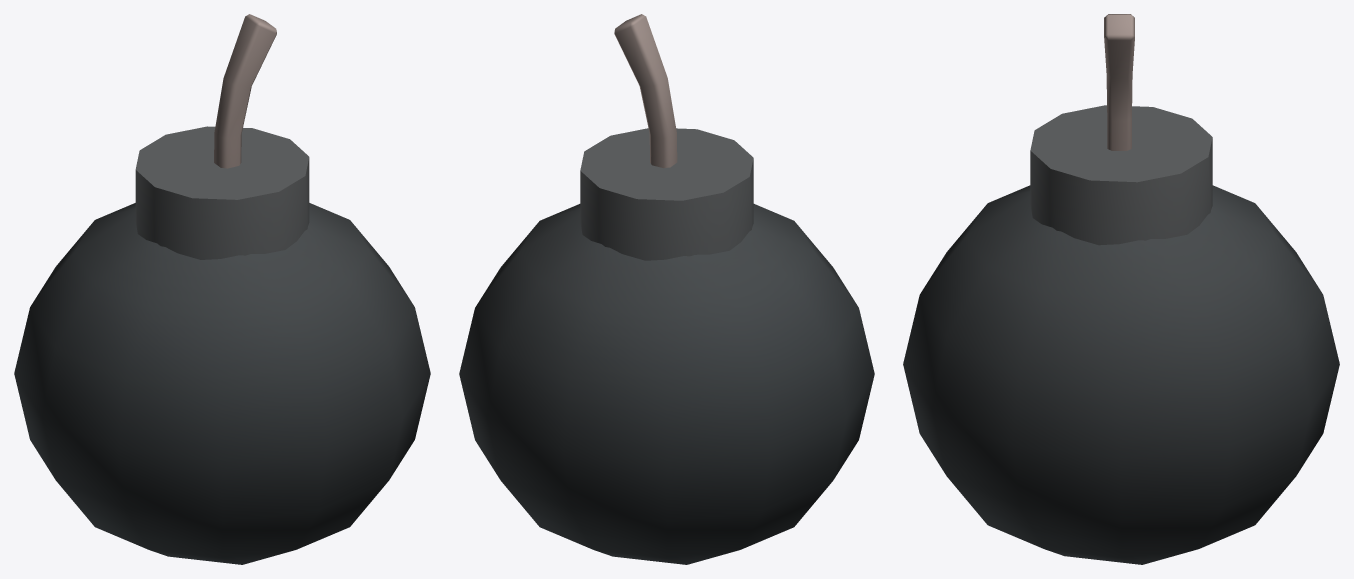
Rendered from bomb_001.glb.
3 renders of one model, left to right at view 1: azimuth 30°, elevation 25°; view 2: azimuth 150°, elevation 25°; view 3: azimuth 270°, elevation 25°, orthographic. The views are drawn at different scales.
Parts seen in each view (by area): view 1: bomb_001; view 2: bomb_001; view 3: bomb_001.
Boxes of the visible parts, bbox=[...] form: bomb_001: bbox=[14, 14, 430, 564]; bomb_001: bbox=[459, 14, 874, 564]; bomb_001: bbox=[903, 14, 1339, 564].
Bounding box in the file's own units: 0.8124 × 1.12 × 0.8124.
1 material, 1 textured.
